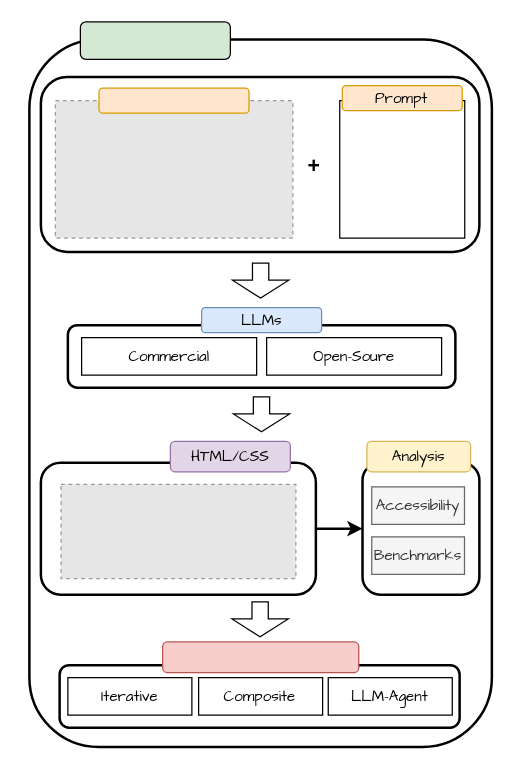
This 524x774 diagram has some shape labels left out. Grey dashed boxes stand in for pictures. The centre of each missing label's shape, as x and y in pixels:
"Image/Screenshot" goes at point 173,100.
"Improvement Strategies" goes at point 260,656.
"Naive Zero-Shot Few-Shot Reasoning" goes at point 401,168.
"Pipeline" goes at point 154,40.
